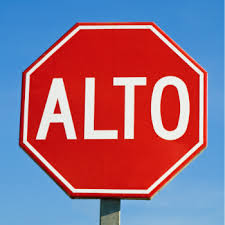stop sign: (19, 21, 207, 201)
